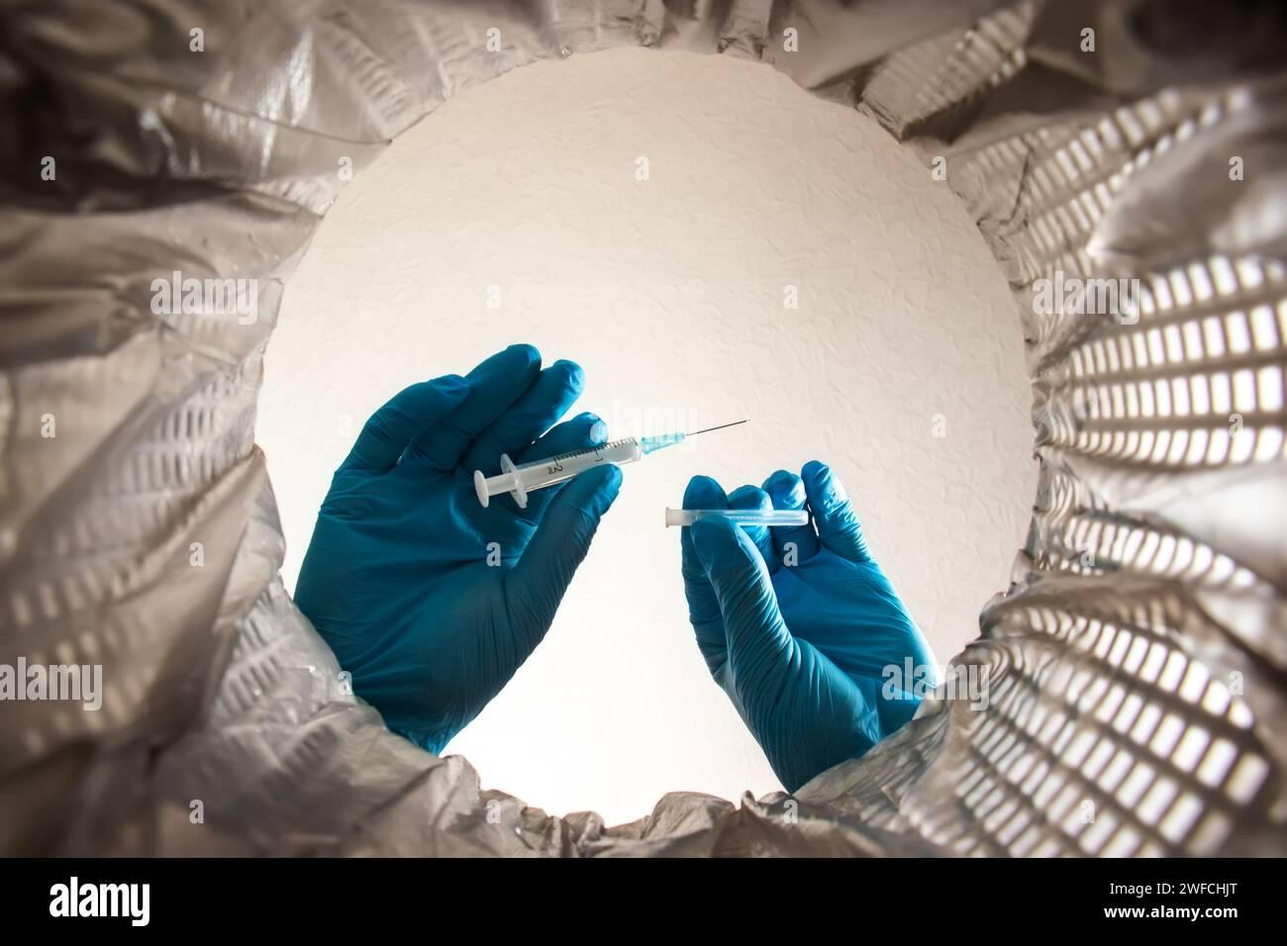Glove: (296, 345, 619, 752), (681, 461, 938, 790)
Syringe: (474, 421, 744, 508), (665, 508, 809, 526)
